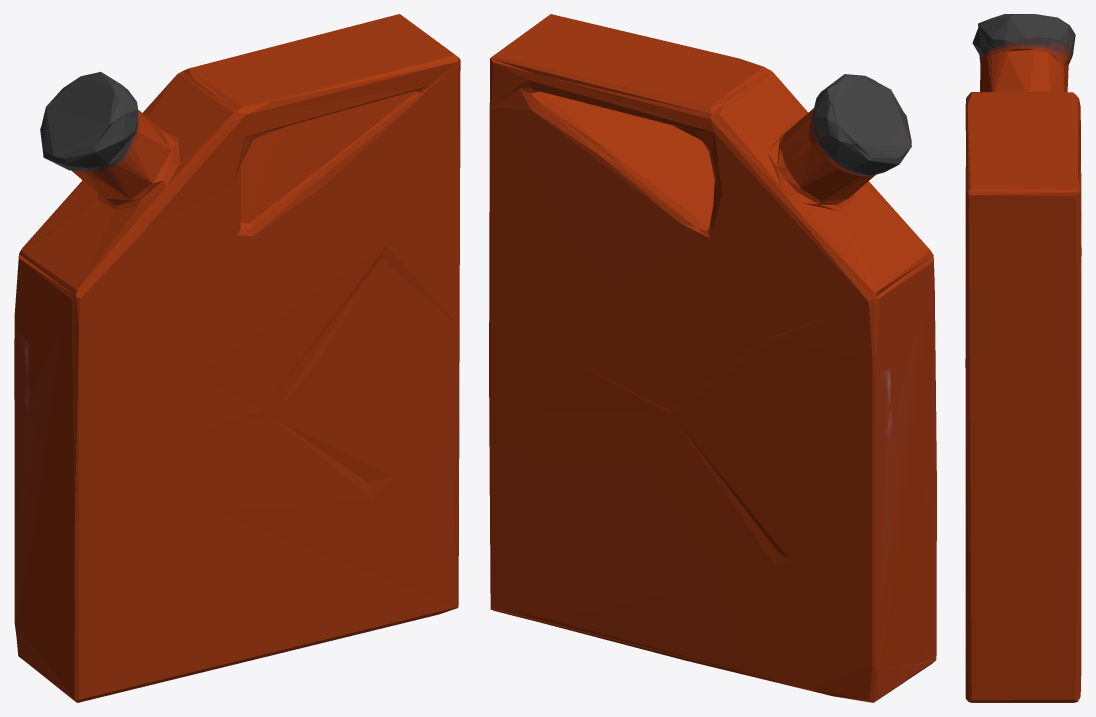
File: Bidon.glb
3 renders of one model, left to right at view 1: azimuth 30°, elevation 25°; view 2: azimuth 150°, elevation 25°; view 3: azimuth 270°, elevation 25°, orthographic. The views are drawn at different scales.
Parts seen in each view (by area): view 1: Bidón; view 2: Bidón; view 3: Bidón.
Part boxes in pixels (<box>): Bidón: <box>14,14,460,702</box>; Bidón: <box>489,14,936,702</box>; Bidón: <box>965,14,1081,702</box>.
Size of the model in its own units: 1 by 1.45 by 0.28.
